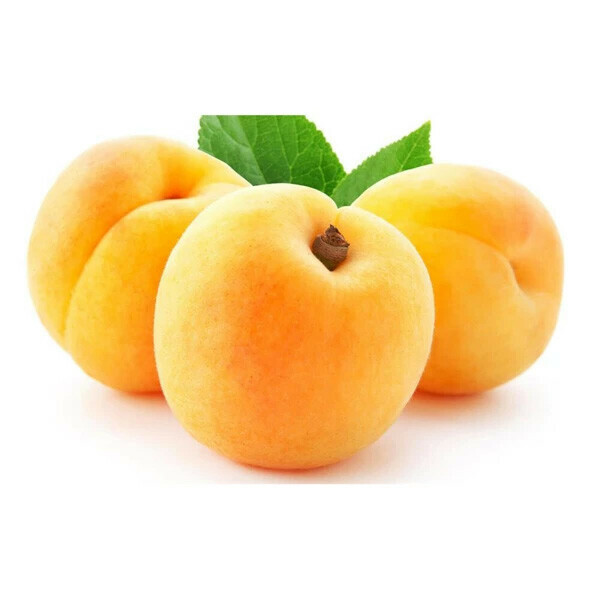Apricot: (148, 179, 437, 480)
